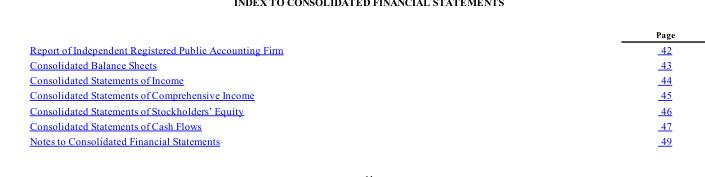table: (29, 28, 674, 146)
table column: (29, 28, 468, 146), (468, 28, 674, 146)
table column header: (29, 28, 674, 40)
table row: (29, 40, 674, 56), (29, 71, 674, 87), (29, 56, 674, 71), (29, 87, 674, 102), (29, 102, 674, 117), (29, 117, 674, 132), (29, 132, 674, 146), (29, 28, 674, 40)
